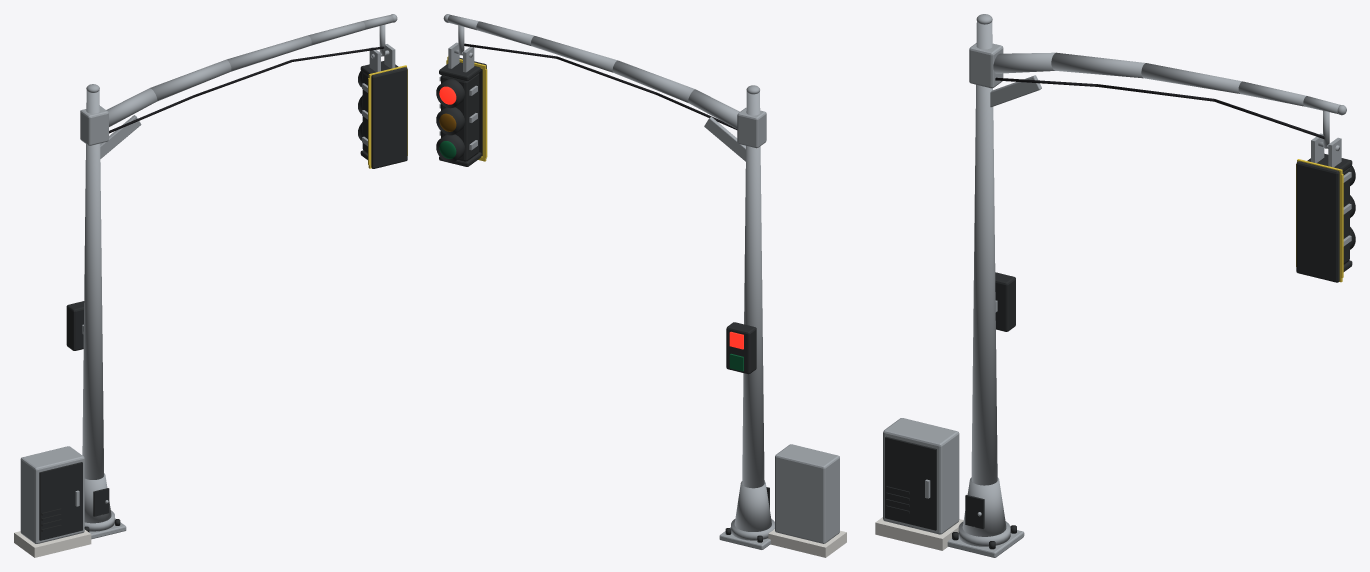
Rendered from traffic_signal_short.glb.
3 views of the same model, side by side, from view 1: azimuth 30°, elevation 25°; view 2: azimuth 150°, elevation 25°; view 3: azimuth 330°, elevation 25° (orthographic). The views are drawn at different scales.
Parts seen in each view (by area): view 1: Merged_SignalMetal, Merged_SignalHousing, signal_cabinet_plinth, Merged_SignalCable, Merged_SignalReflector; view 2: Merged_SignalMetal, Merged_SignalHousing, signal_cabinet_plinth, Merged_SignalCable, Merged_SignalReflector; view 3: Merged_SignalMetal, Merged_SignalHousing, signal_cabinet_plinth, Merged_SignalCable, Merged_SignalReflector.
Part boxes in pixels (x1,y1,x2,y2): Merged_SignalMetal: (20,14,397,543); Merged_SignalHousing: (39,61,407,540); signal_cabinet_plinth: (14,529,91,557); Merged_SignalCable: (109,46,384,133); Merged_SignalReflector: (368,65,407,168); Merged_SignalMetal: (439,14,839,549); Merged_SignalHousing: (436,58,769,542); signal_cabinet_plinth: (768,529,846,557); Merged_SignalCable: (464,43,737,129); Merged_SignalReflector: (446,56,487,161); Merged_SignalMetal: (883,14,1351,557); Merged_SignalHousing: (885,153,1355,549); signal_cabinet_plinth: (875,517,963,550); Merged_SignalCable: (995,77,1324,139); Merged_SignalReflector: (1296,159,1343,282).
Size of the model in its own units: 5.55 by 6.13 by 0.84.
